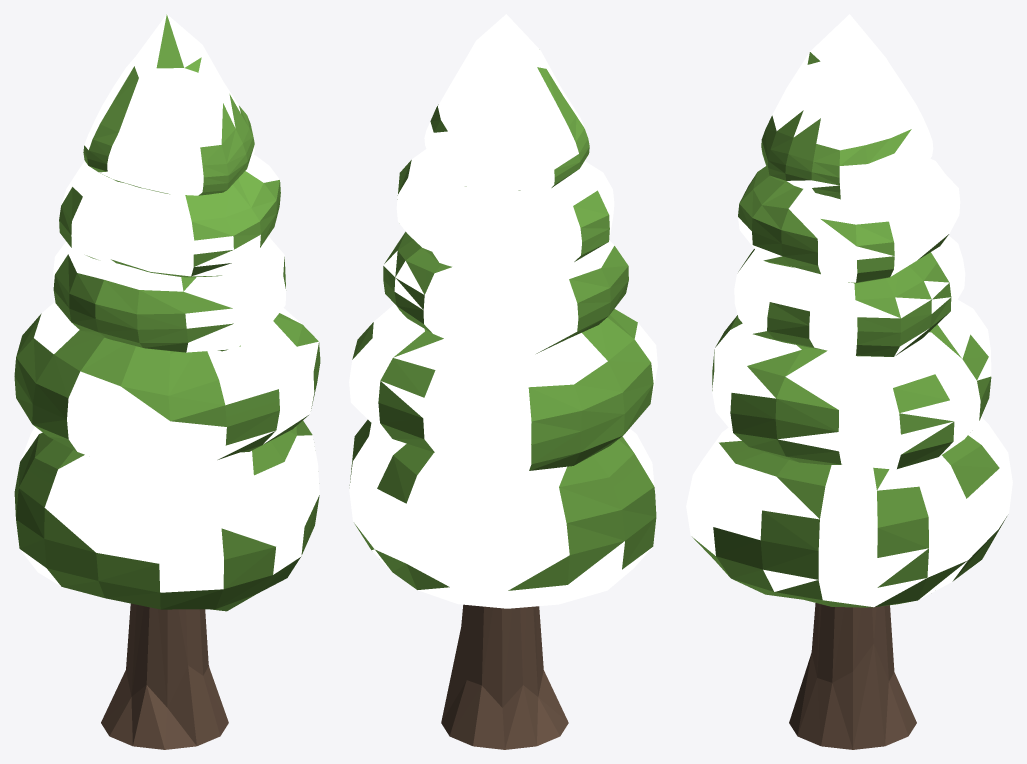
The model's file is tree_round_snow_2.glb.
3 renders of one model, left to right at view 1: azimuth 30°, elevation 25°; view 2: azimuth 150°, elevation 25°; view 3: azimuth 270°, elevation 25°, orthographic.
Visible parts, largest first — view 1: tree_0034.002; view 2: tree_0034.002; view 3: tree_0034.002.
Boxes of the visible parts, x1,y1,x2,y2 form: tree_0034.002: (14, 14, 320, 749); tree_0034.002: (349, 14, 657, 749); tree_0034.002: (686, 14, 1012, 749).
Size of the model in its own units: 1.4 by 3.44 by 1.44.
